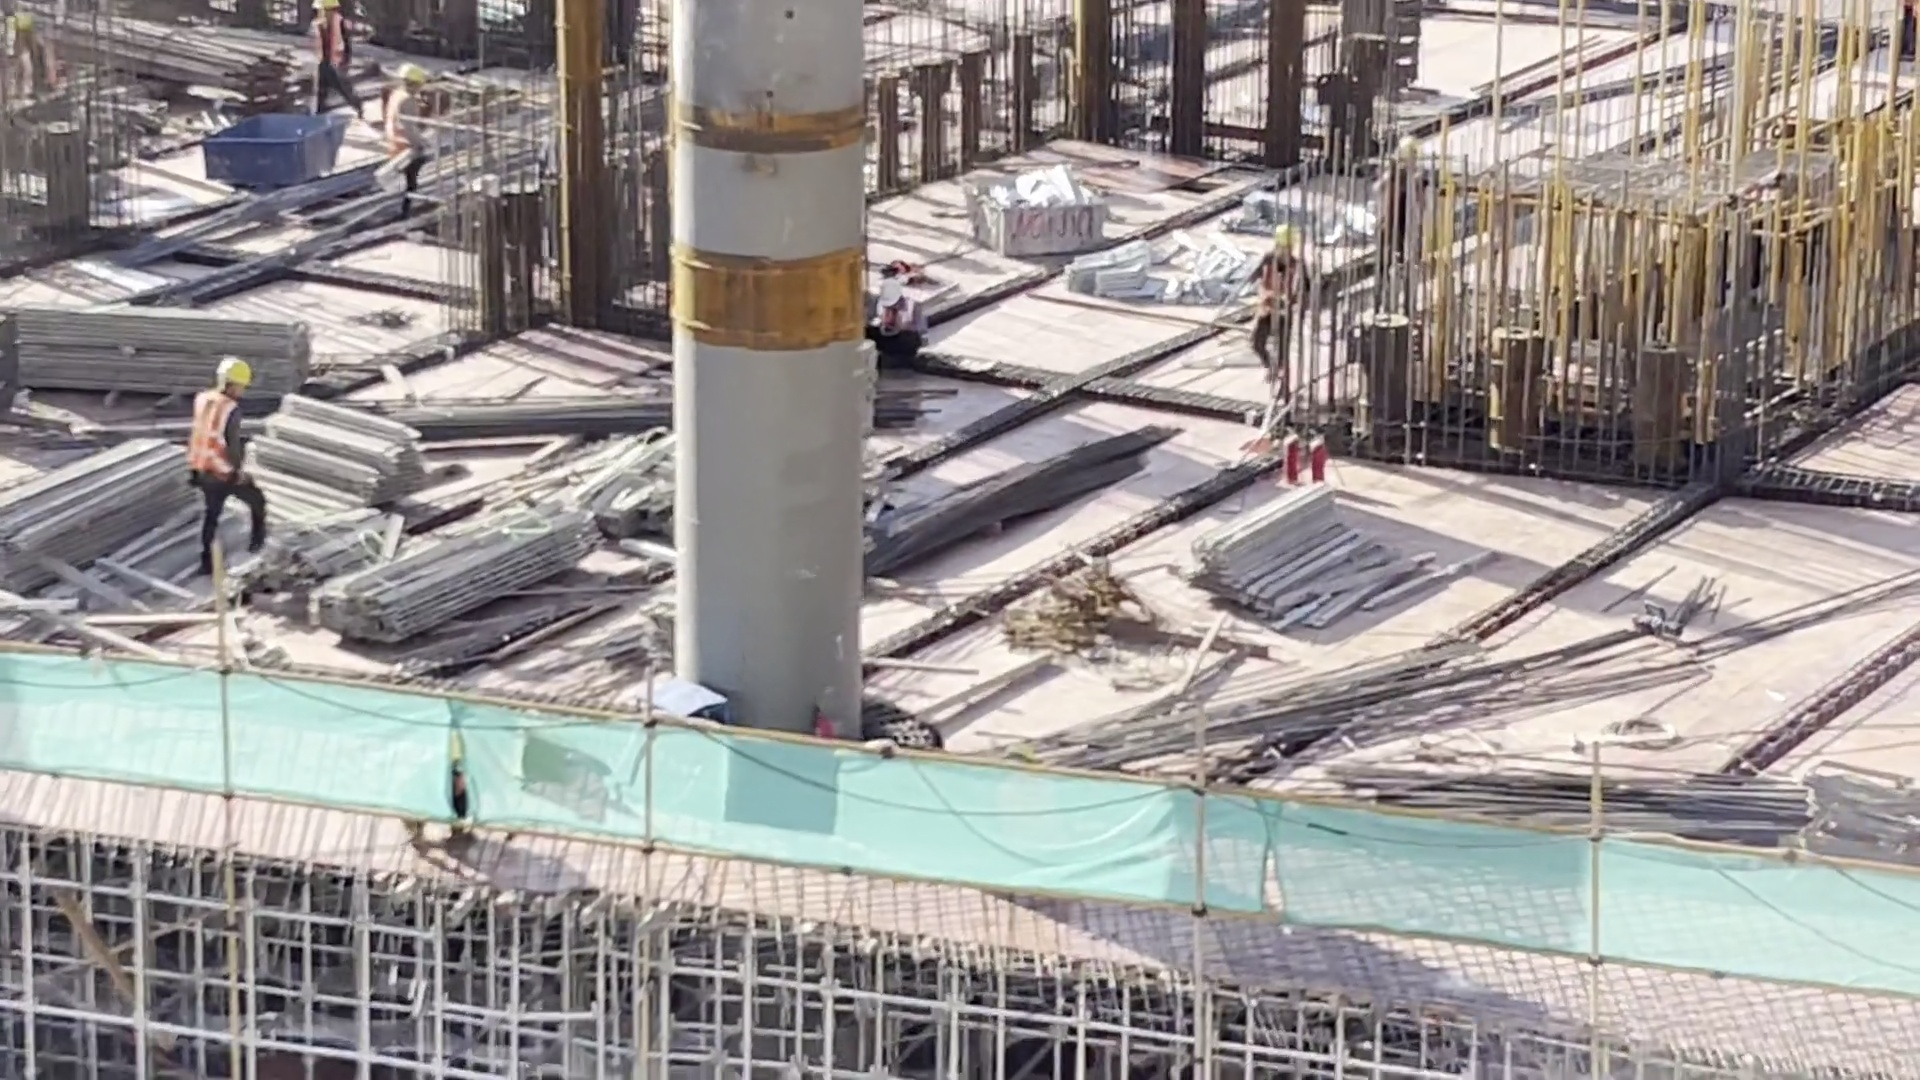helmet: (208, 345, 256, 390), (866, 260, 908, 305), (1271, 209, 1297, 256)
hopper: (208, 90, 349, 200), (966, 158, 1119, 257)
person: (192, 350, 263, 528), (1244, 223, 1312, 382), (381, 54, 444, 208), (854, 272, 928, 369), (300, 1, 351, 120)
vest: (184, 386, 232, 479), (1258, 252, 1292, 331)
wood: (332, 483, 586, 645), (1, 301, 322, 408), (1, 435, 199, 590), (1192, 486, 1380, 628), (258, 382, 422, 522)
